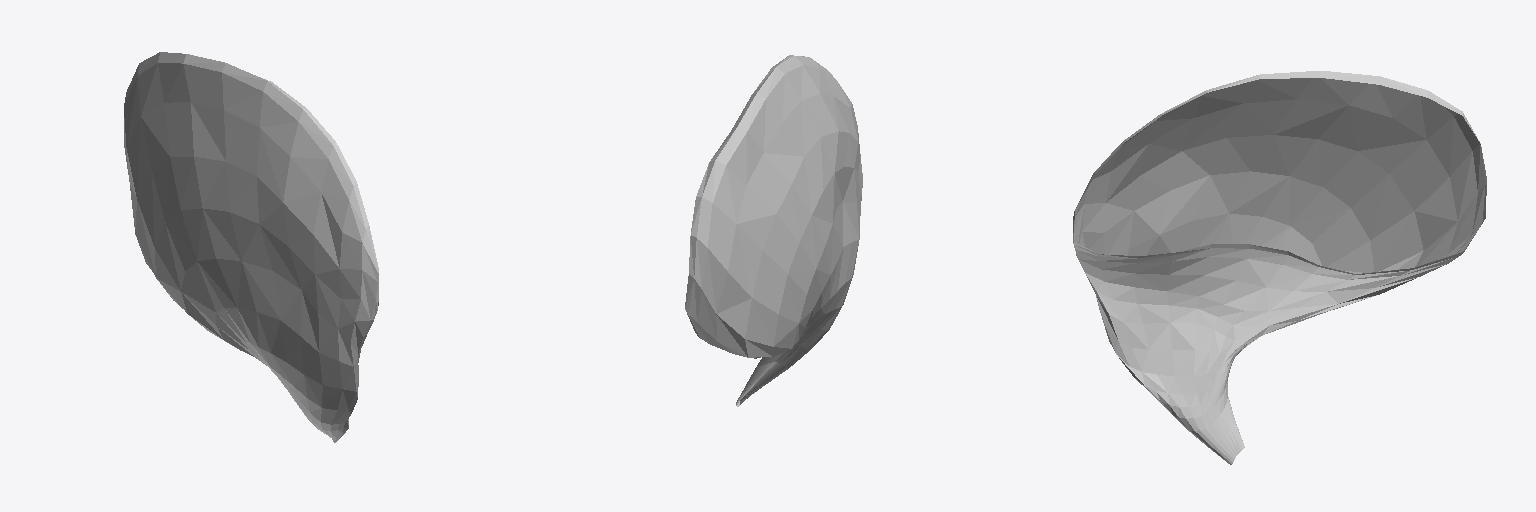
Rendered from Temporal_Muscle_Right.obj.
3 renders of one model, left to right at view 1: azimuth 30°, elevation 25°; view 2: azimuth 150°, elevation 25°; view 3: azimuth 270°, elevation 25°, orthographic.
Visible parts, largest first — view 1: Temporal_Muscle_Right_Mesh group1; view 2: Temporal_Muscle_Right_Mesh group1; view 3: Temporal_Muscle_Right_Mesh group1.
Boxes of the visible parts, x1,y1,x2,y2 form: Temporal_Muscle_Right_Mesh group1: [124, 52, 378, 442]; Temporal_Muscle_Right_Mesh group1: [685, 55, 862, 406]; Temporal_Muscle_Right_Mesh group1: [1073, 71, 1486, 464].
Bounding box in the file's own units: 0.4652 × 1.45 × 1.49.